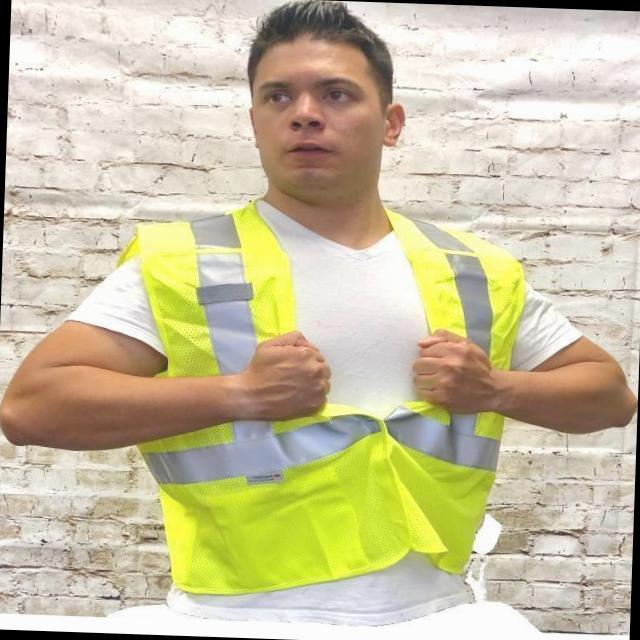vest: (126, 191, 531, 598), (20, 195, 372, 586)
